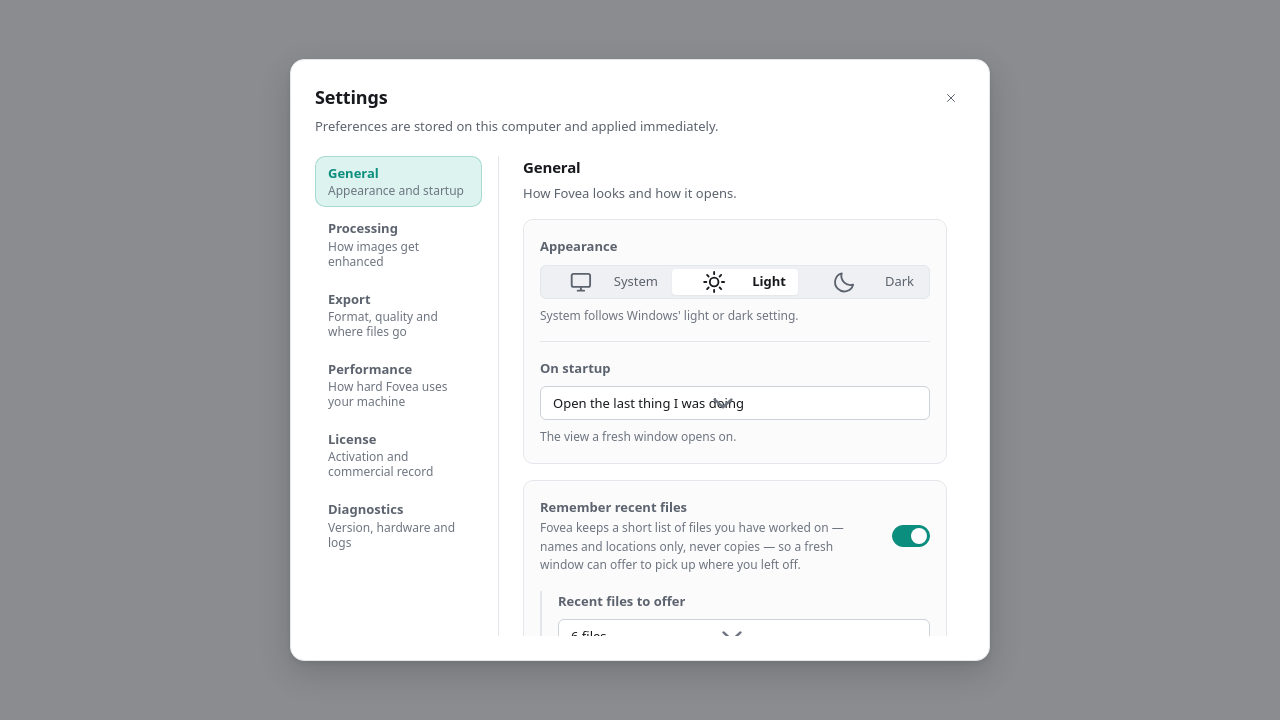
Test: Settings dialog › the recents limit only shows while recents are on
This screenshot has width=1280, height=720.
Click the switch labelled "Remember recent files" at (735, 536), box [540,497,930,575]
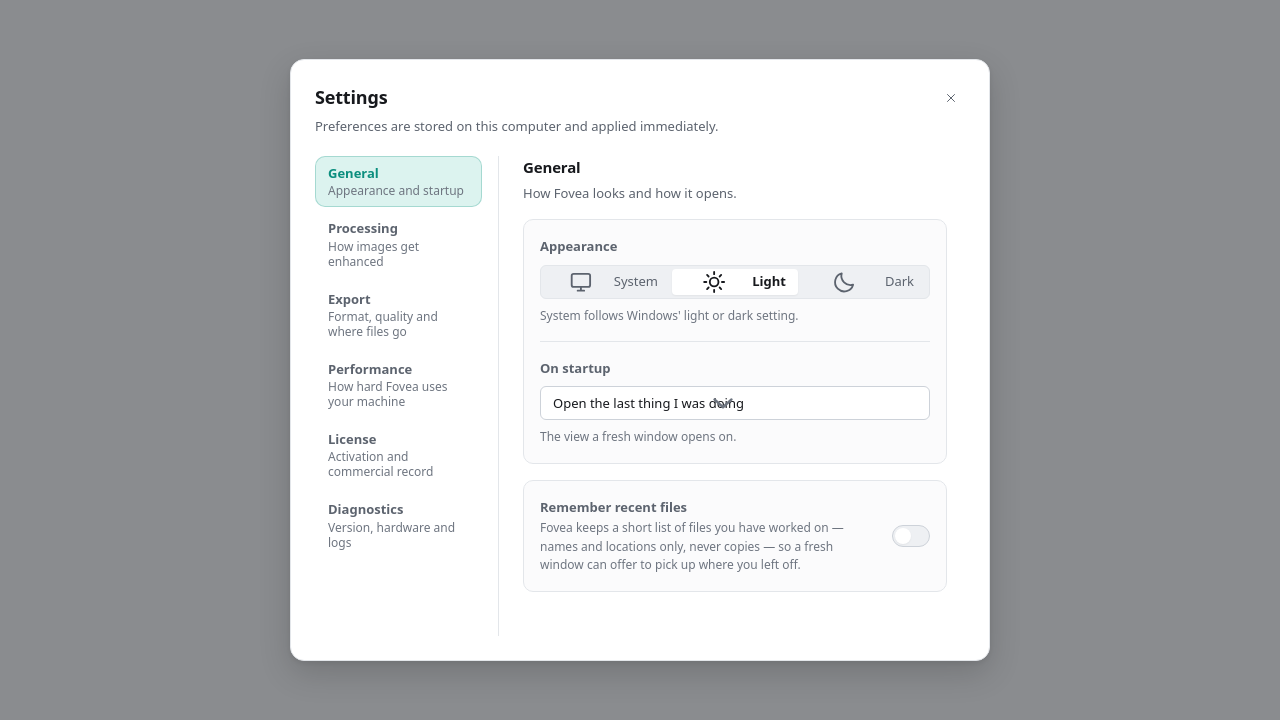
Result: the label labelled "Recent files to offer" is gone
